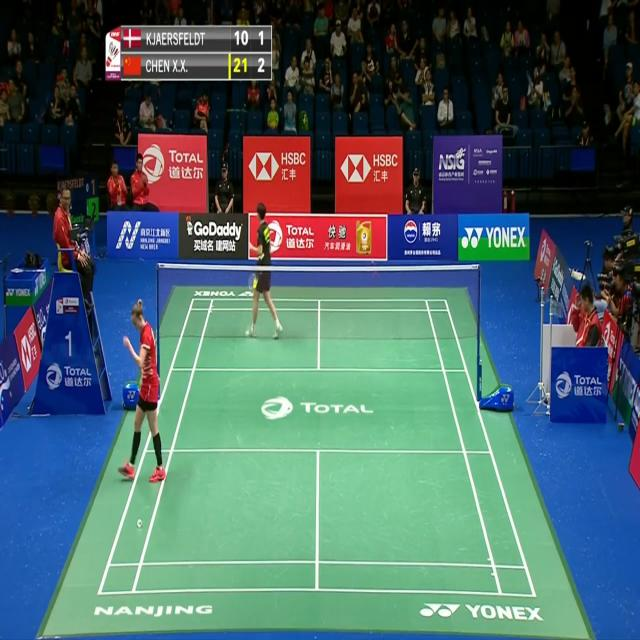Player1: (113, 292, 169, 490)
Player2: (235, 192, 291, 353)
